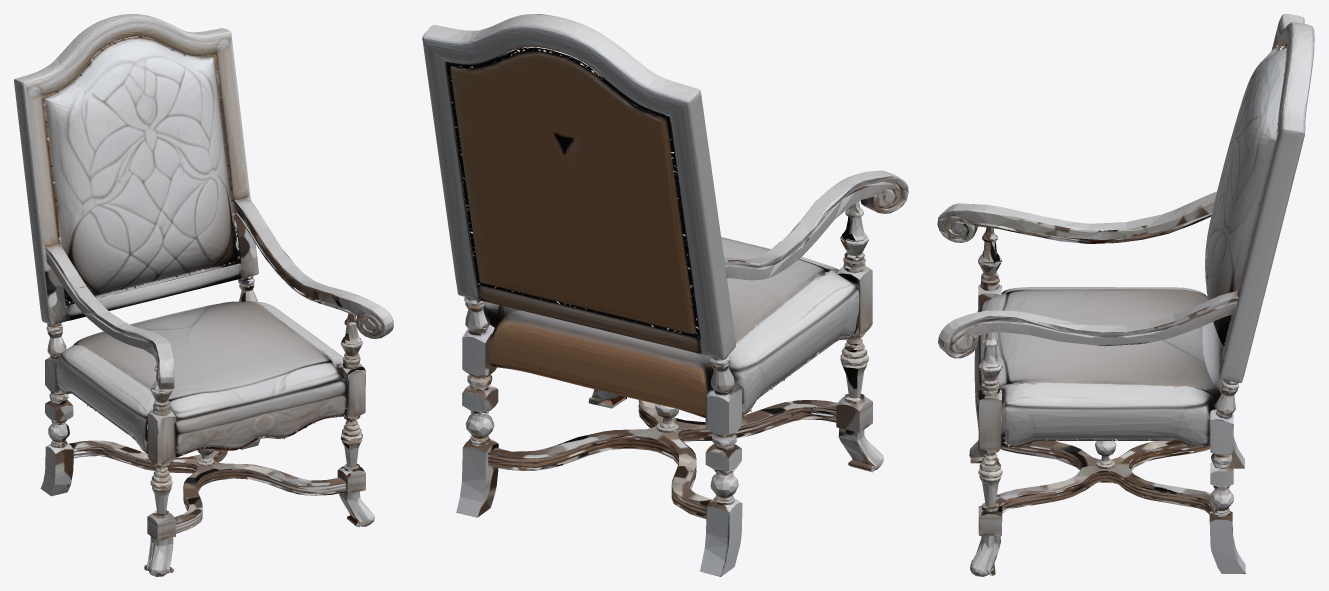
File: edited_mesh.glb
3 renders of one model, left to right at view 1: azimuth 30°, elevation 25°; view 2: azimuth 150°, elevation 25°; view 3: azimuth 270°, elevation 25°, orthographic. The views are drawn at different scales.
Parts seen in each view (by area): view 1: solid_001_wire; view 2: solid_001_wire; view 3: solid_001_wire.
Boxes of the visible parts, x1,y1,x2,y2 form: solid_001_wire: (14,14,393,576); solid_001_wire: (422,14,908,576); solid_001_wire: (937,14,1314,576).
Bounding box in the file's own units: 0.8481 × 1.48 × 1.04.
1 material, 1 textured.
